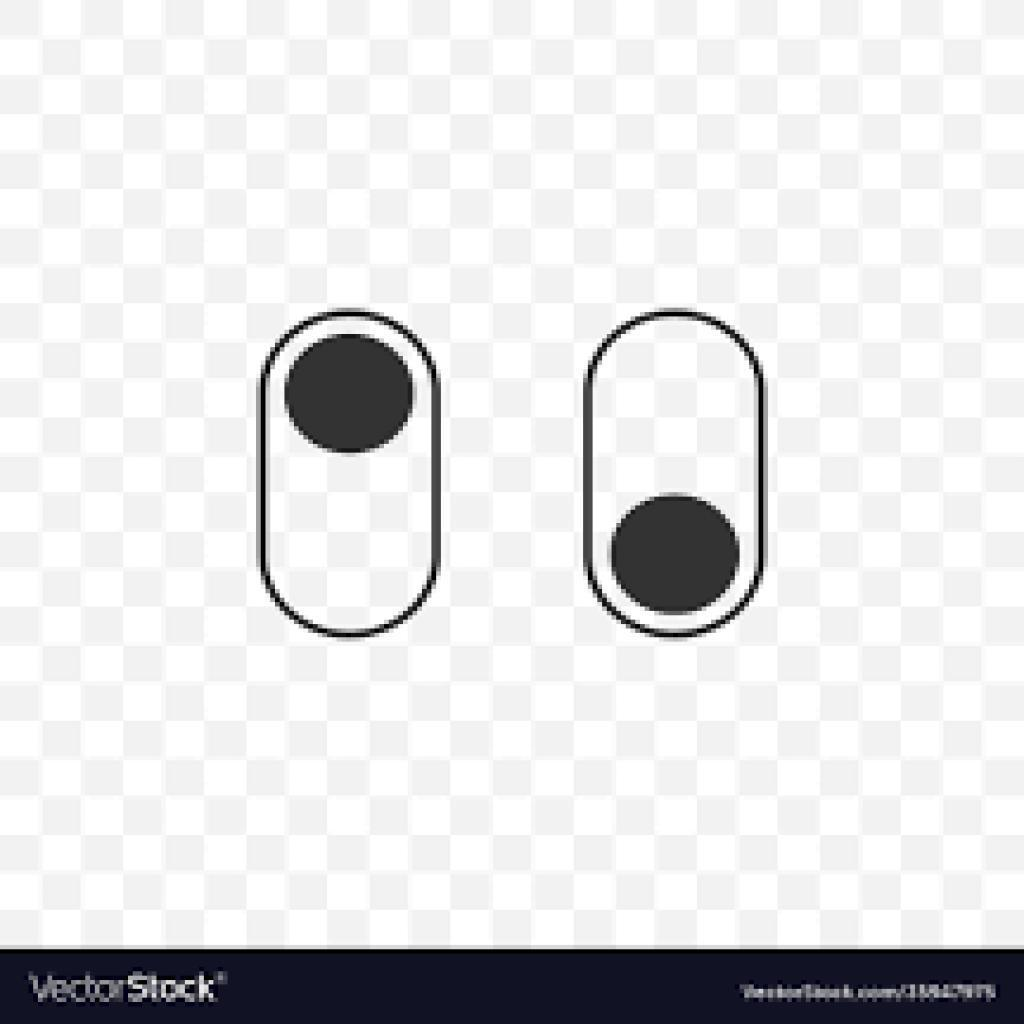switch: (579, 299, 771, 650), (257, 301, 450, 648)
